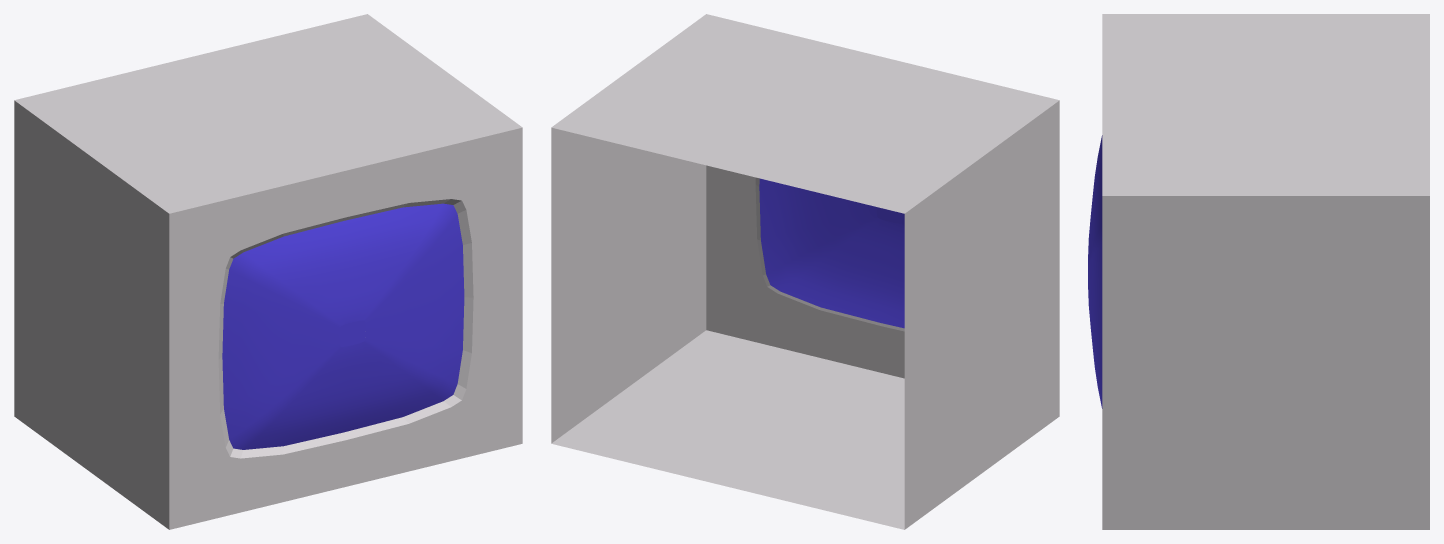
File: Monitor Test.fbx
3 views of the same model, side by side, from view 1: azimuth 30°, elevation 25°; view 2: azimuth 150°, elevation 25°; view 3: azimuth 270°, elevation 25° (orthographic). The views are drawn at different scales.
Visible parts, largest first — view 1: Screen, Screen.001; view 2: Screen, Screen.001; view 3: Screen, Screen.001.
Boxes of the visible parts, x1,y1,x2,y2 form: Screen: [14, 14, 522, 529]; Screen.001: [222, 203, 464, 449]; Screen: [551, 14, 1059, 529]; Screen.001: [759, 178, 904, 328]; Screen: [1102, 14, 1429, 529]; Screen.001: [1088, 135, 1102, 408].
Bounding box in the file's own units: 370 × 316 × 293.
